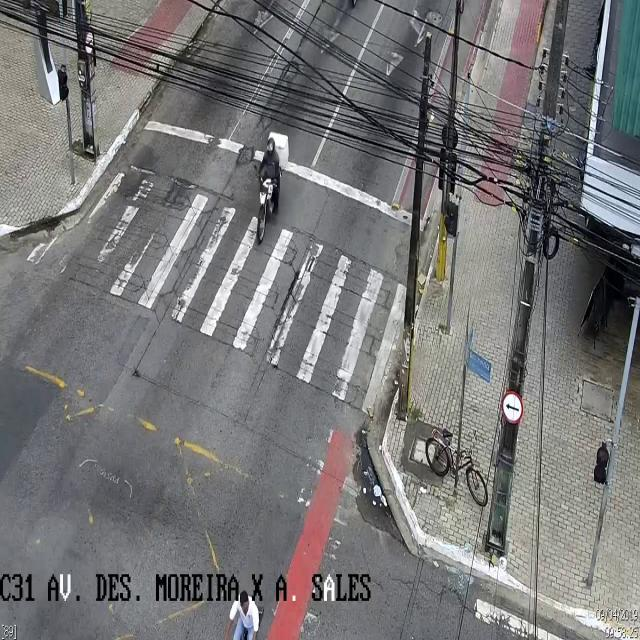Motorcycle: (254, 130, 288, 242)
